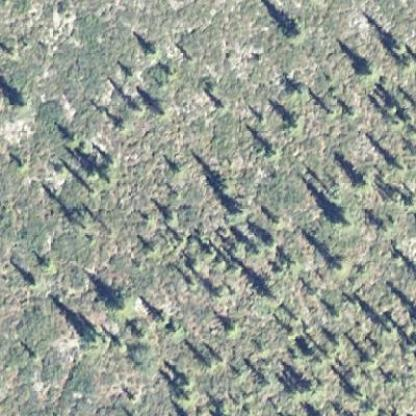tree-top: (79, 326, 108, 356), (328, 207, 356, 232), (354, 58, 378, 82), (146, 98, 170, 122), (105, 293, 127, 316), (284, 110, 306, 133), (327, 254, 348, 275), (283, 23, 305, 43), (354, 172, 372, 194), (261, 236, 278, 253)
